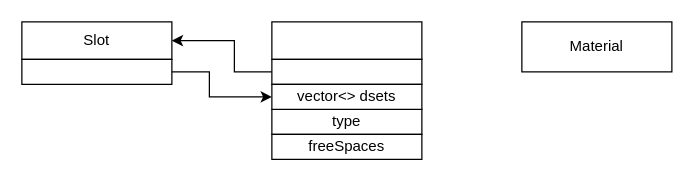
Some shapes in this 694 by 181 pixel diagram are drawn without their labels. Here are the shapes that lost their labels. From the top down, the centre of each, then its label:
At (x=346, y=40): "SlotPool".
At (x=96, y=71): "GetDSet()".
At (x=346, y=71): "vector<> slots".
